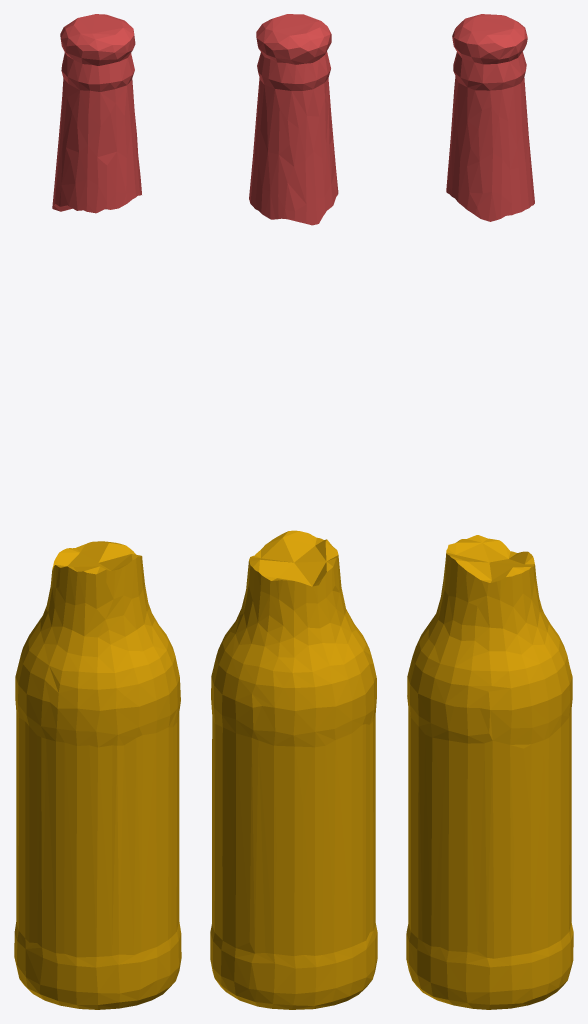
The model's file is fractured_73_2pcs_transformed.glb.
3 views of the same model, side by side, from view 1: azimuth 30°, elevation 25°; view 2: azimuth 150°, elevation 25°; view 3: azimuth 270°, elevation 25° (orthographic).
Parts seen in each view (by area): view 1: piece_0.obj, piece_1.obj; view 2: piece_0.obj, piece_1.obj; view 3: piece_0.obj, piece_1.obj.
Part boxes in pixels (left/top/right/bottom): piece_0.obj: left=14, top=541, right=181, bottom=1009; piece_1.obj: left=52, top=14, right=141, bottom=213; piece_0.obj: left=210, top=530, right=377, bottom=1009; piece_1.obj: left=249, top=14, right=338, bottom=225; piece_0.obj: left=406, top=535, right=573, bottom=1009; piece_1.obj: left=446, top=14, right=534, bottom=221.
Size of the model in its own units: 0.2521 by 1.6 by 0.2519.
